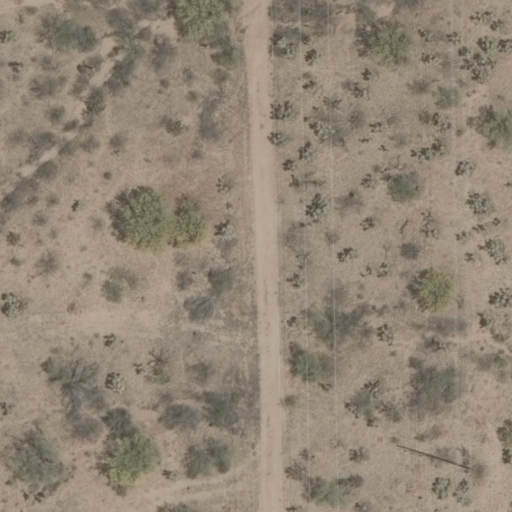DT: (459, 458, 489, 478)
